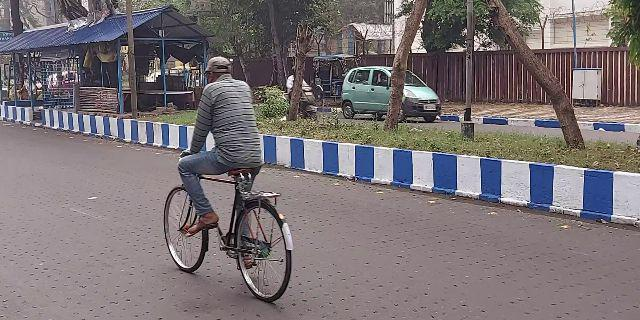Car: (341, 67, 445, 123)
Cycle: (162, 42, 306, 313)
